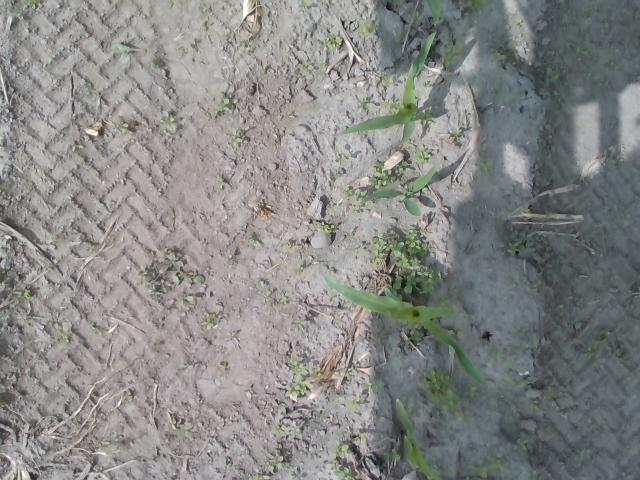Maize: (321, 270, 490, 386), (334, 33, 434, 146), (394, 396, 444, 480), (360, 165, 437, 217), (424, 1, 442, 24)
Weeds: (354, 225, 444, 294), (138, 248, 205, 302), (421, 368, 478, 428), (583, 326, 625, 360), (368, 160, 414, 189), (468, 456, 503, 480), (333, 442, 354, 480), (340, 186, 366, 214), (512, 325, 538, 352), (442, 45, 463, 70), (506, 240, 536, 257), (272, 424, 304, 439), (477, 146, 493, 176), (416, 144, 436, 165), (158, 110, 178, 130), (490, 352, 512, 368), (360, 380, 386, 393), (464, 0, 488, 13), (267, 454, 284, 472), (216, 96, 236, 111), (286, 381, 306, 396), (325, 32, 343, 48), (348, 394, 364, 412), (512, 436, 529, 452), (407, 326, 423, 342), (202, 315, 218, 331), (419, 111, 434, 128), (12, 288, 33, 300), (110, 40, 130, 52), (510, 378, 530, 390), (384, 447, 399, 463), (448, 326, 466, 339), (356, 98, 370, 114), (358, 22, 376, 34), (318, 222, 336, 234), (382, 100, 400, 112), (230, 128, 245, 142), (545, 66, 560, 80), (294, 63, 312, 74), (528, 400, 542, 414), (431, 459, 444, 474), (115, 119, 128, 133), (290, 362, 304, 374), (544, 386, 556, 399), (530, 278, 542, 291), (280, 110, 294, 121), (278, 292, 290, 304), (404, 402, 416, 414), (336, 148, 347, 161), (446, 465, 457, 478), (494, 52, 507, 62), (21, 0, 39, 7), (250, 474, 270, 480), (292, 318, 304, 328), (448, 286, 460, 296), (438, 294, 450, 304), (509, 271, 519, 282), (60, 334, 71, 344), (382, 74, 393, 84), (449, 127, 458, 139), (576, 46, 588, 55), (344, 368, 354, 378), (254, 280, 265, 289), (354, 432, 365, 441), (296, 264, 305, 274), (331, 394, 342, 402), (298, 0, 309, 8), (254, 239, 262, 249), (312, 368, 322, 376), (520, 208, 530, 214)
